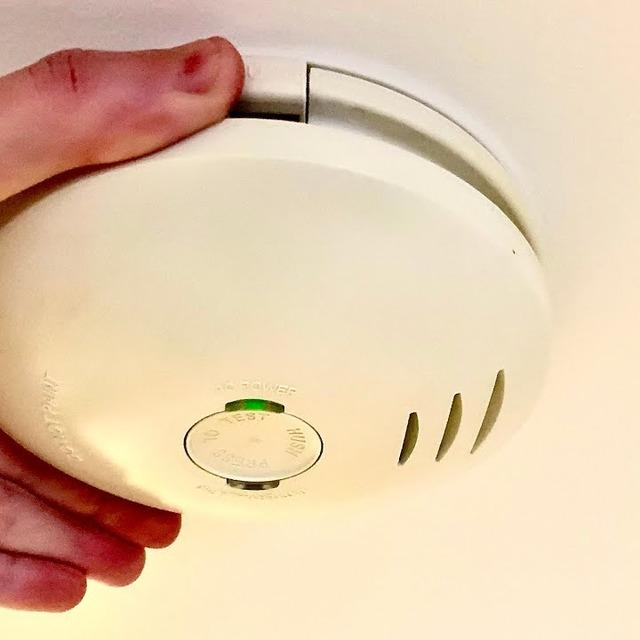Smoke-Detector: (12, 170, 548, 510)
